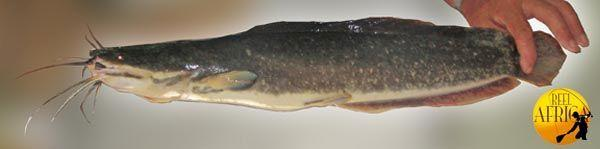Catfish: (45, 12, 566, 116)
